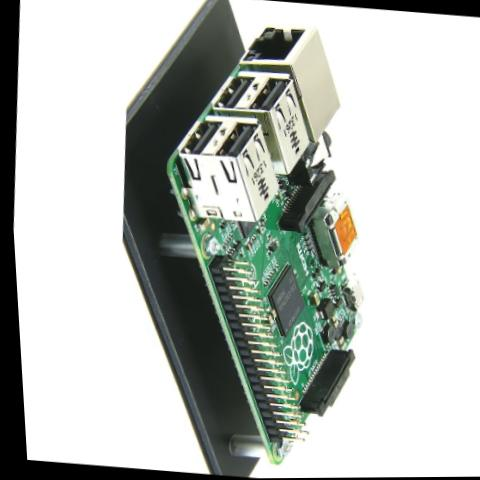Raspberry-Pi-1-Model-B-: (129, 10, 399, 475)
